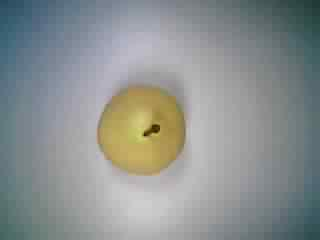pear: (87, 77, 196, 179)
